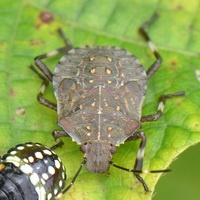insect: (31, 21, 184, 191), (0, 142, 65, 199)
